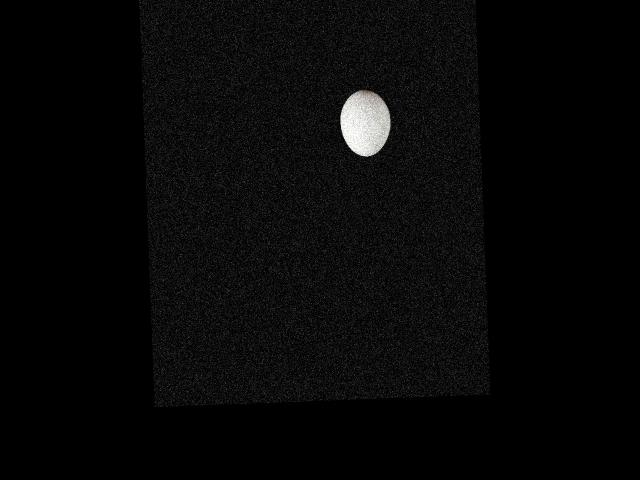egg: (338, 89, 391, 157)
